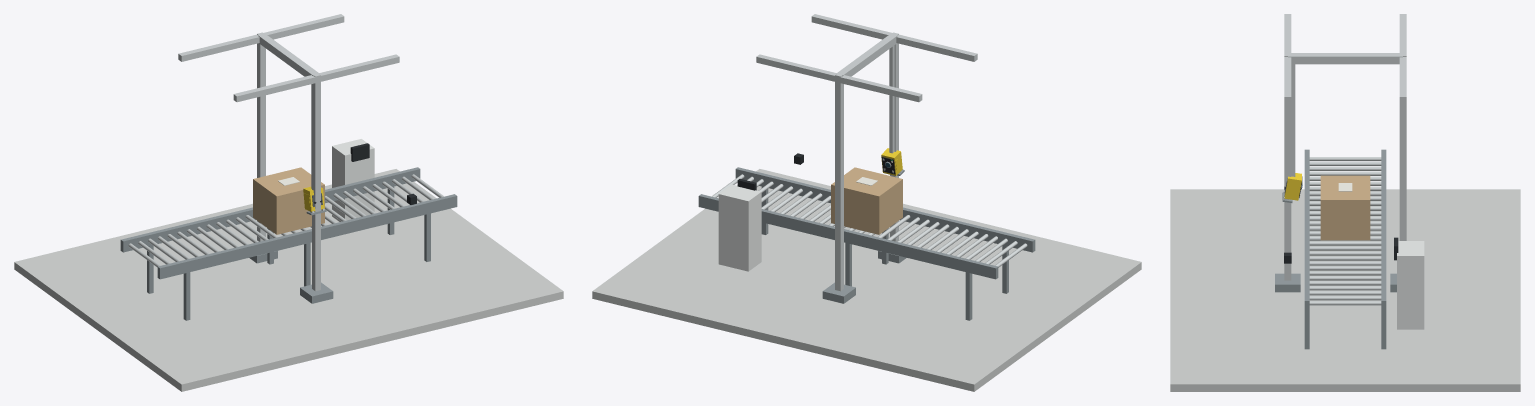
3 views of the same model, side by side, from view 1: azimuth 30°, elevation 25°; view 2: azimuth 150°, elevation 25°; view 3: azimuth 270°, elevation 25° (orthographic). The views are drawn at different scales.
Parts seen in each view (by area): view 1: Floor, Conveyor side rail, Parcel, Conveyor side rail.001, Control cabinet, Extrusion upright, Longitudinal top frame, Longitudinal top frame.001, Extrusion upright.001, Overhead crossbeam; view 2: Floor, Conveyor side rail.001, Control cabinet, Parcel, Conveyor side rail, Extrusion upright.001, Longitudinal top frame.001, Longitudinal top frame, Overhead crossbeam, Extrusion upright, Suspended sensor mount; view 3: Floor, Parcel, Control cabinet, Overhead crossbeam, Extrusion upright, Extrusion upright.001, Conveyor side rail, Conveyor side rail.001, Longitudinal top frame, Longitudinal top frame.001, Suspended sensor mount, Anchor foot (+17 smaller).
Boxes of the visible parts, x1,y1,x2,y2 form: Floor: [14, 169, 563, 391]; Conveyor side rail: [157, 194, 457, 279]; Parcel: [253, 167, 324, 234]; Conveyor side rail.001: [120, 167, 420, 252]; Control cabinet: [332, 139, 374, 221]; Extrusion upright: [312, 74, 320, 291]; Longitudinal top frame: [233, 54, 399, 102]; Longitudinal top frame.001: [178, 14, 344, 61]; Extrusion upright.001: [257, 32, 265, 241]; Overhead crossbeam: [258, 33, 319, 76]; Floor: [592, 169, 1141, 391]; Conveyor side rail.001: [698, 194, 998, 279]; Control cabinet: [718, 184, 761, 271]; Parcel: [831, 167, 902, 234]; Conveyor side rail: [735, 167, 1035, 252]; Extrusion upright.001: [835, 74, 843, 291]; Longitudinal top frame.001: [756, 54, 922, 102]; Longitudinal top frame: [811, 14, 977, 61]; Overhead crossbeam: [836, 33, 897, 76]; Extrusion upright: [890, 32, 898, 241]; Suspended sensor mount: [889, 45, 894, 153]; Floor: [1170, 189, 1520, 391]; Parcel: [1320, 175, 1370, 240]; Control cabinet: [1397, 241, 1424, 329]; Overhead crossbeam: [1288, 53, 1402, 64]; Extrusion upright: [1284, 53, 1291, 280]; Extrusion upright.001: [1399, 53, 1406, 240]; Conveyor side rail: [1304, 149, 1309, 312]; Conveyor side rail.001: [1381, 149, 1386, 312]; Longitudinal top frame: [1284, 14, 1291, 103]; Longitudinal top frame.001: [1399, 14, 1406, 103]; Suspended sensor mount: [1291, 64, 1295, 176]; Anchor foot: [1275, 273, 1300, 292].
Bounding box in the file's own units: 5.4 × 3.1 × 4.1.
